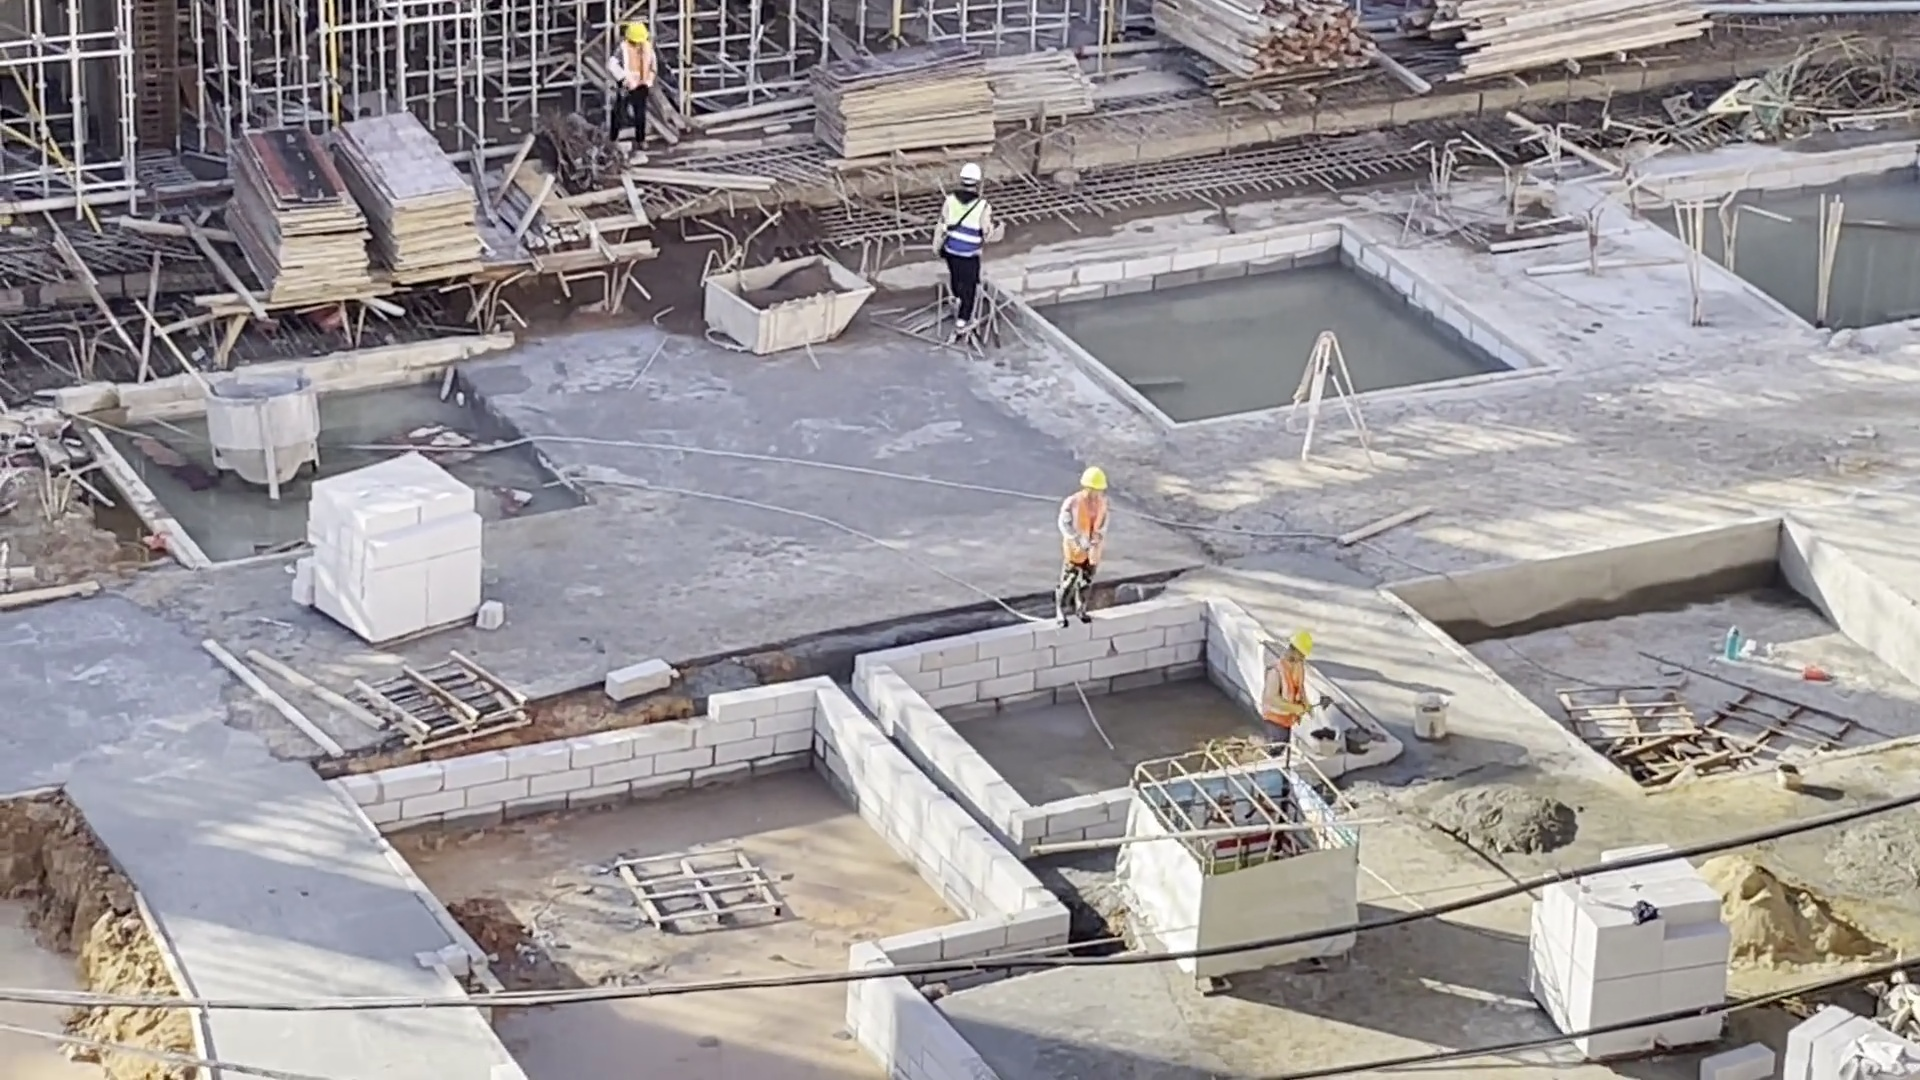board: (326, 108, 492, 291), (215, 126, 378, 308), (807, 35, 999, 157)
brick: (294, 445, 491, 648), (1516, 900, 1741, 995), (1782, 998, 1912, 1080)
helmet: (1078, 467, 1112, 493), (1286, 630, 1316, 659), (621, 22, 651, 46), (958, 163, 983, 187)
hopper: (693, 249, 882, 358), (204, 369, 321, 501)
person: (926, 157, 1011, 335), (1051, 468, 1115, 631), (605, 21, 660, 154), (1258, 631, 1317, 753)
vest: (1062, 492, 1109, 565), (938, 194, 990, 257), (1264, 659, 1308, 728), (618, 41, 655, 88)
wood: (1414, 2, 1712, 80), (1147, 1, 1380, 80)
